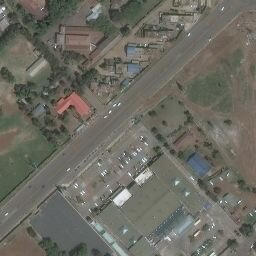tree: (109, 10, 121, 22), (240, 223, 251, 233), (119, 27, 129, 36), (27, 227, 36, 237), (227, 239, 237, 248), (155, 134, 165, 142), (63, 88, 72, 95), (80, 74, 88, 81), (153, 146, 161, 153), (170, 149, 177, 156), (176, 152, 184, 158), (151, 127, 158, 133), (163, 142, 169, 149), (213, 187, 219, 194), (85, 71, 92, 77), (59, 125, 66, 131), (41, 130, 48, 136), (148, 110, 156, 115), (224, 120, 232, 125), (237, 180, 245, 185), (53, 129, 59, 135), (90, 69, 97, 74), (212, 150, 216, 158), (162, 121, 167, 126), (184, 111, 189, 115), (197, 128, 201, 132)
